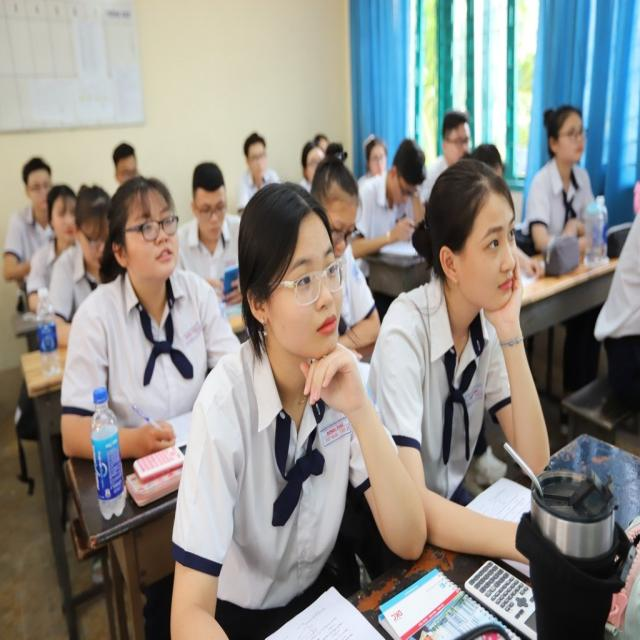no_helmet: (230, 169, 350, 366), (409, 148, 519, 318)
